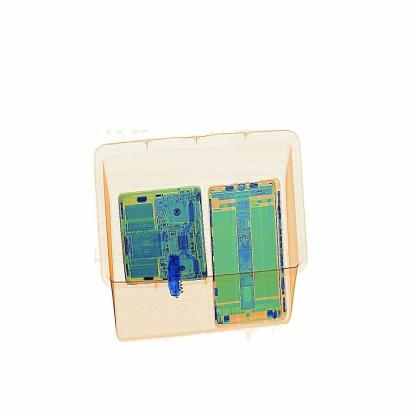scissors: (160, 239, 194, 307)
